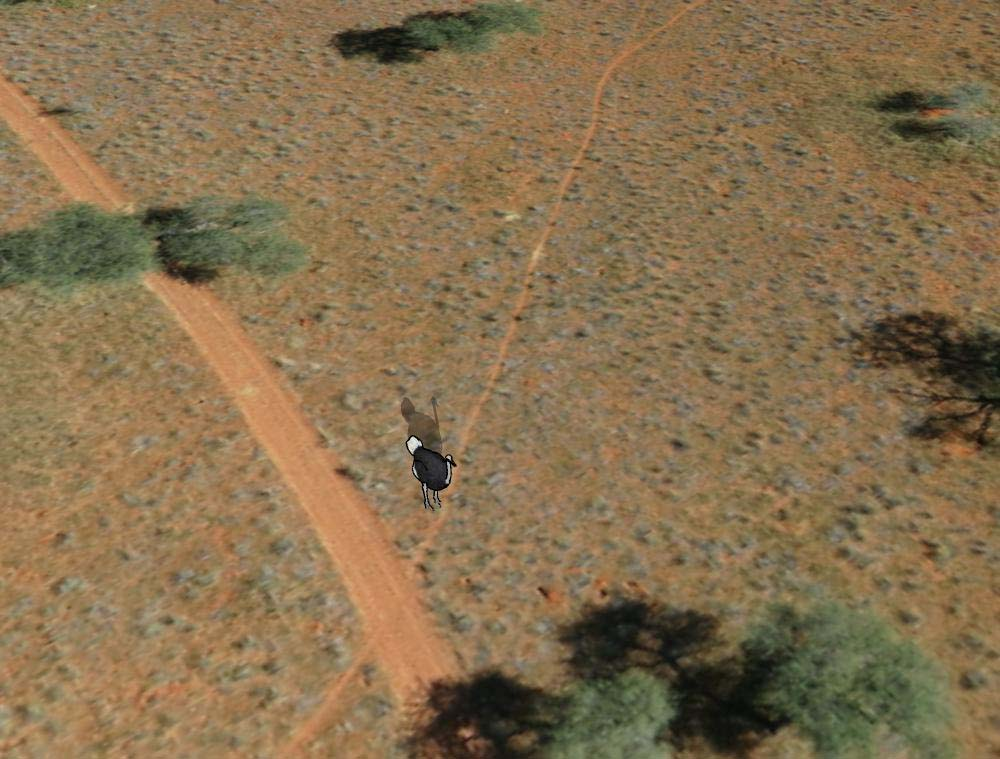ostrich: (403, 433, 460, 515)
